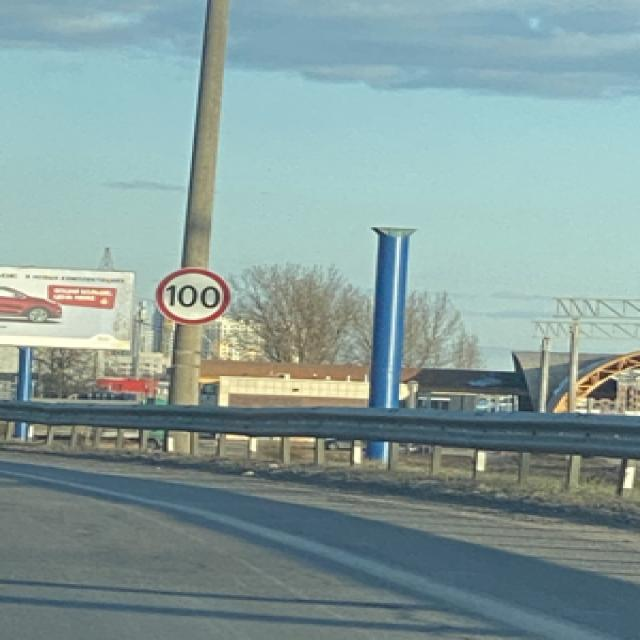speedlimit: (154, 267, 226, 323)
